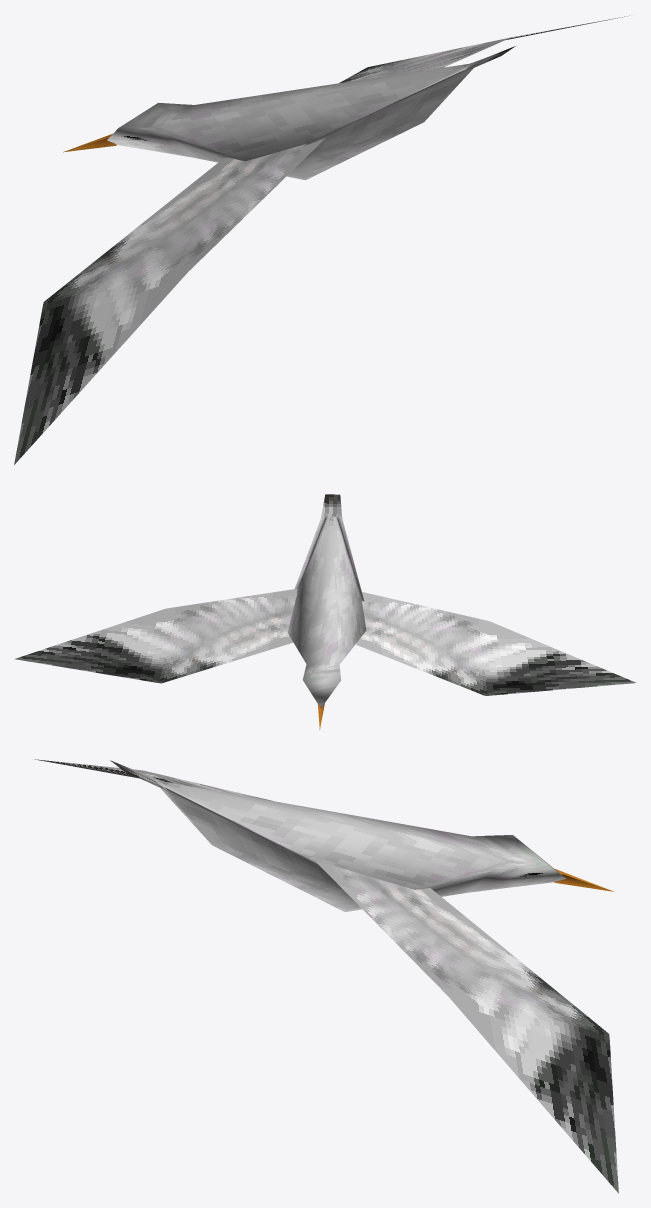
The model's file is INST_LT_SEAGULL_FLYB01.fbx.
3 renders of one model, top to bottom at view 1: azimuth 30°, elevation 25°; view 2: azimuth 150°, elevation 25°; view 3: azimuth 270°, elevation 25°, orthographic. The views are drawn at different scales.
Visible parts, largest first — view 1: INST_LT_SEAGULL_FLYB01; view 2: INST_LT_SEAGULL_FLYB01; view 3: INST_LT_SEAGULL_FLYB01.
Part boxes in pixels (x1,y1,x2,y2): INST_LT_SEAGULL_FLYB01: (14, 15, 629, 464); INST_LT_SEAGULL_FLYB01: (14, 494, 636, 729); INST_LT_SEAGULL_FLYB01: (34, 759, 618, 1193).
Size of the model in its own units: 12818 by 3472 by 6838.
2 materials, 2 textured.
